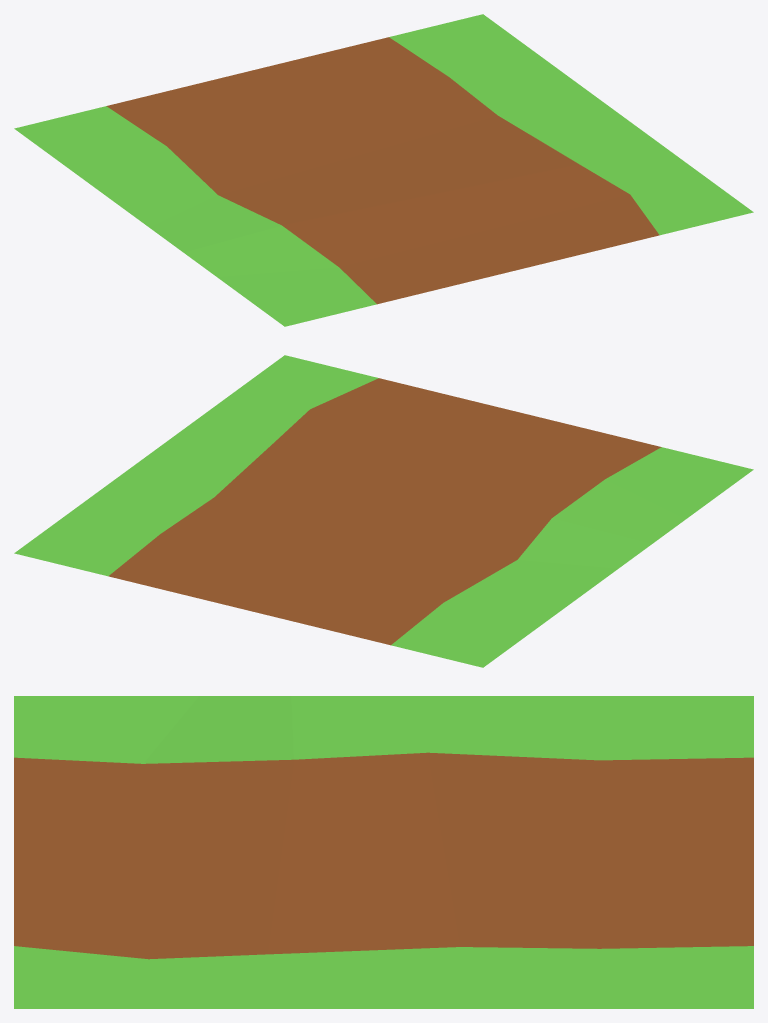
The model's file is GrassPath.glb.
3 views of the same model, one above another, from view 1: azimuth 30°, elevation 25°; view 2: azimuth 150°, elevation 25°; view 3: azimuth 270°, elevation 25° (orthographic). The views are drawn at different scales.
Visible parts, largest first — view 1: Grasspath; view 2: Grasspath; view 3: Grasspath.
Part boxes in pixels (x1,y1,x2,y2): Grasspath: (14, 14, 753, 326); Grasspath: (14, 355, 753, 667); Grasspath: (14, 696, 753, 1008).
Bounding box in the file's own units: 2 × 0.00829 × 2.
1 material, 1 textured.
